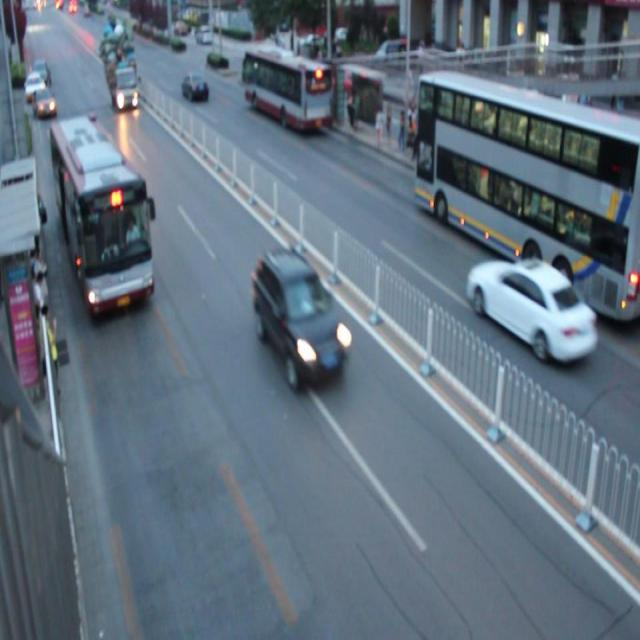bus: (101, 19, 138, 113)
car: (464, 254, 598, 364), (251, 250, 347, 390), (180, 70, 210, 104), (32, 85, 58, 120)
van: (416, 74, 640, 318), (47, 120, 154, 316), (242, 43, 333, 134)
